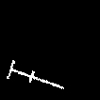double_crochet: (7, 60, 63, 88)
